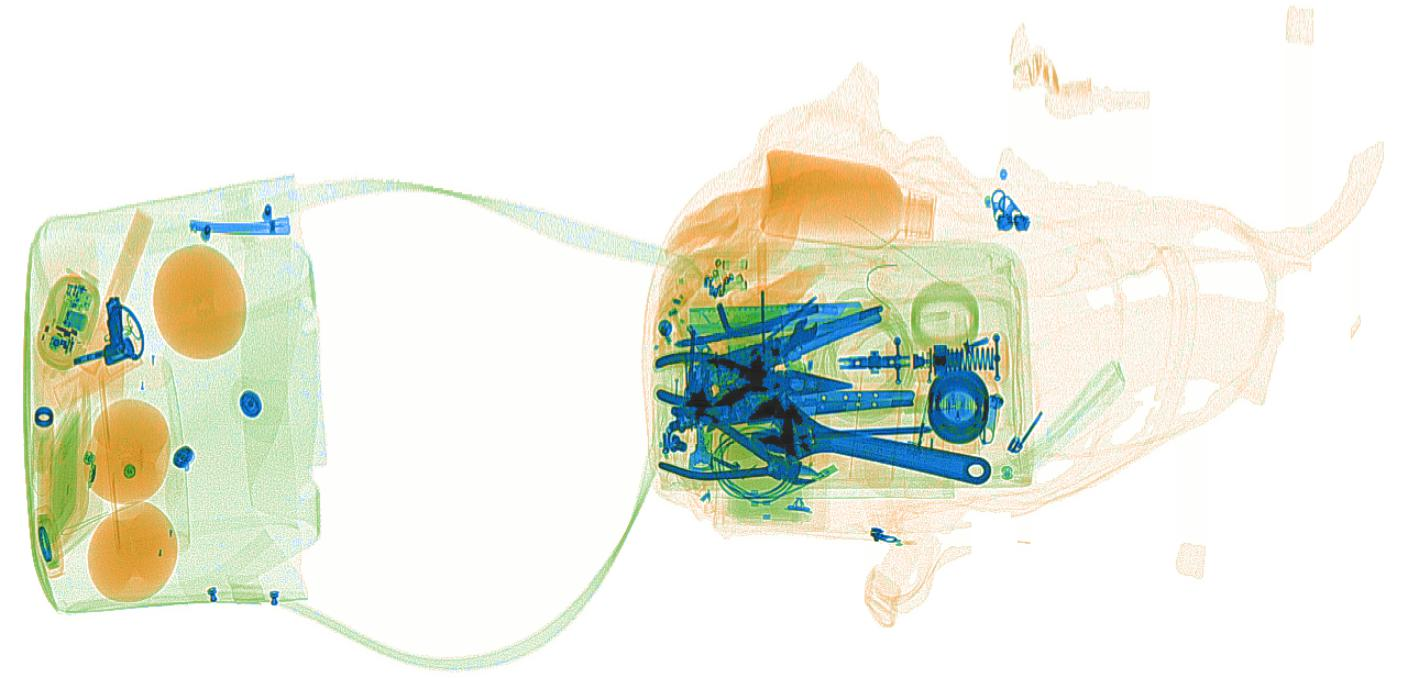knife: (669, 300, 870, 339)
